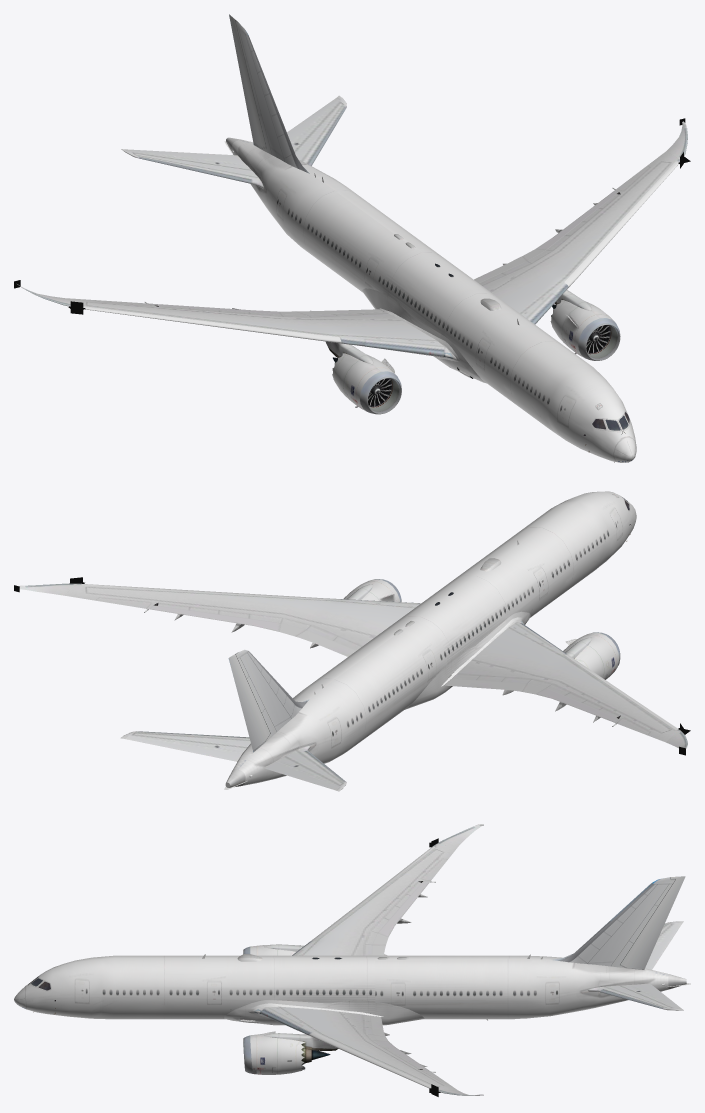
Rendered from boeing_787-9.glb.
The picture shows the model from 3 angles, top to bottom: view 1: azimuth 30°, elevation 25°; view 2: azimuth 150°, elevation 25°; view 3: azimuth 270°, elevation 25°; orthographic projection. The views are drawn at different scales.
Parts seen in each view (by area): view 1: Object_45_Material.001_0, Object_27_Material.006_0, Object_35_Material.002_0, Object_33_Material.003_0, Object_13_Material.007_0, Object_37_material09_0, Object_39_material09_0, Object_43_Material.008_0; view 2: Object_45_Material.001_0, Object_27_Material.006_0, Object_35_Material.002_0, Object_33_Material.003_0, Object_13_Material.007_0, Object_39_material09_0; view 3: Object_45_Material.001_0, Object_27_Material.006_0, Object_33_Material.003_0, Object_13_Material.007_0, Object_35_Material.002_0, Object_39_material09_0.
Part boxes in pixels (x1=…): Object_45_Material.001_0: x1=17, y1=14, x2=687, y2=461; Object_27_Material.006_0: x1=438, y1=291, x2=599, y2=435; Object_35_Material.002_0: x1=483, y1=151, x2=679, y2=318; Object_33_Material.003_0: x1=65, y1=298, x2=450, y2=358; Object_13_Material.007_0: x1=548, y1=370, x2=636, y2=462; Object_37_material09_0: x1=83, y1=306, x2=341, y2=343; Object_39_material09_0: x1=564, y1=161, x2=679, y2=287; Object_43_Material.008_0: x1=369, y1=325, x2=625, y2=462; Object_45_Material.001_0: x1=19, y1=494, x2=687, y2=791; Object_27_Material.006_0: x1=452, y1=501, x2=610, y2=626; Object_35_Material.002_0: x1=64, y1=583, x2=419, y2=645; Object_33_Material.003_0: x1=458, y1=621, x2=680, y2=742; Object_13_Material.007_0: x1=560, y1=491, x2=636, y2=565; Object_39_material09_0: x1=81, y1=583, x2=340, y2=599; Object_45_Material.001_0: x1=16, y1=824, x2=686, y2=1095; Object_27_Material.006_0: x1=101, y1=955, x2=278, y2=1023; Object_33_Material.003_0: x1=296, y1=845, x2=458, y2=955; Object_13_Material.007_0: x1=14, y1=957, x2=101, y2=1018; Object_35_Material.002_0: x1=258, y1=1006, x2=457, y2=1090; Object_39_material09_0: x1=309, y1=1032, x2=431, y2=1088.
Size of the model in its own units: 60.21 by 15.72 by 63.16.
Materials: 18 (9 with a texture image).
